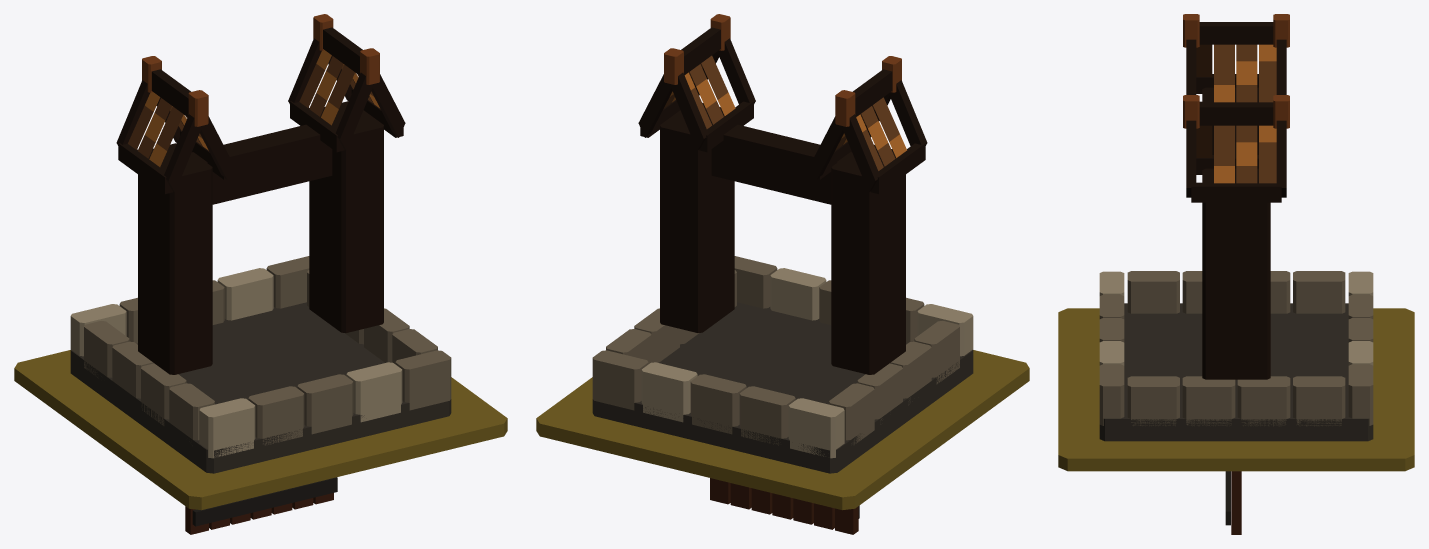
File: gate_t1.glb
The picture shows the model from 3 angles, left to right: view 1: azimuth 30°, elevation 25°; view 2: azimuth 150°, elevation 25°; view 3: azimuth 270°, elevation 25°; orthographic projection. The views are drawn at different scales.
Parts seen in each view (by area): view 1: MMR | gate | T01 Architecture.001, MMR | gate | Tier 01 Ground.001, MMR | gate | T01 Lift Gate.001; view 2: MMR | gate | T01 Architecture.001, MMR | gate | Tier 01 Ground.001, MMR | gate | T01 Lift Gate.001; view 3: MMR | gate | T01 Architecture.001, MMR | gate | Tier 01 Ground.001, MMR | gate | T01 Lift Gate.001.
Boxes of the visible parts, box(x1,y1,x2,y2) form: MMR | gate | T01 Architecture.001: box(70, 14, 451, 473); MMR | gate | Tier 01 Ground.001: box(14, 350, 507, 510); MMR | gate | T01 Lift Gate.001: box(185, 477, 337, 534); MMR | gate | T01 Architecture.001: box(592, 14, 973, 473); MMR | gate | Tier 01 Ground.001: box(536, 350, 1029, 510); MMR | gate | T01 Lift Gate.001: box(710, 478, 859, 534); MMR | gate | T01 Architecture.001: box(1099, 14, 1373, 441); MMR | gate | Tier 01 Ground.001: box(1058, 308, 1414, 471); MMR | gate | T01 Lift Gate.001: box(1225, 471, 1241, 534).
Size of the model in its own units: 1.3 by 1.79 by 1.3.
Materials: 1 (1 with a texture image).
